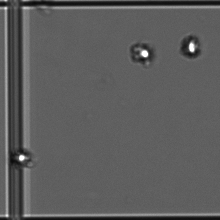Living Cell: (129, 40, 152, 69), (14, 145, 35, 171), (182, 33, 202, 60)
